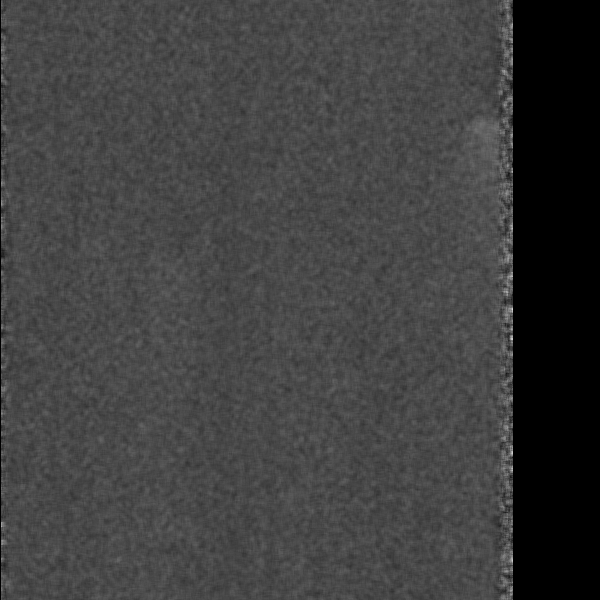spark: (469, 112, 495, 172)
